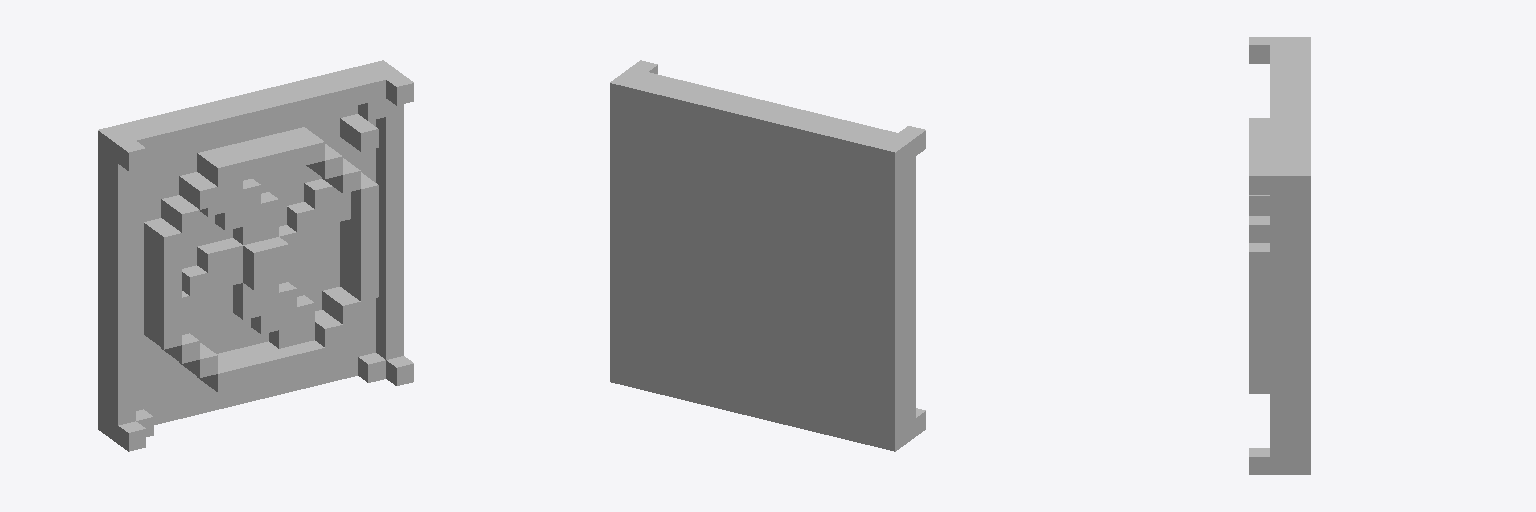
File: wallFan.obj
3 renders of one model, left to right at view 1: azimuth 30°, elevation 25°; view 2: azimuth 150°, elevation 25°; view 3: azimuth 270°, elevation 25°, orthographic.
Visible parts, largest first — view 1: object 1; view 2: object 1; view 3: object 1.
Part boxes in pixels (x1,y1,x2,y2): object 1: (98, 60, 413, 451); object 1: (610, 60, 925, 451); object 1: (1249, 37, 1310, 474).
Size of the model in its own units: 1.6 by 1.6 by 0.3.